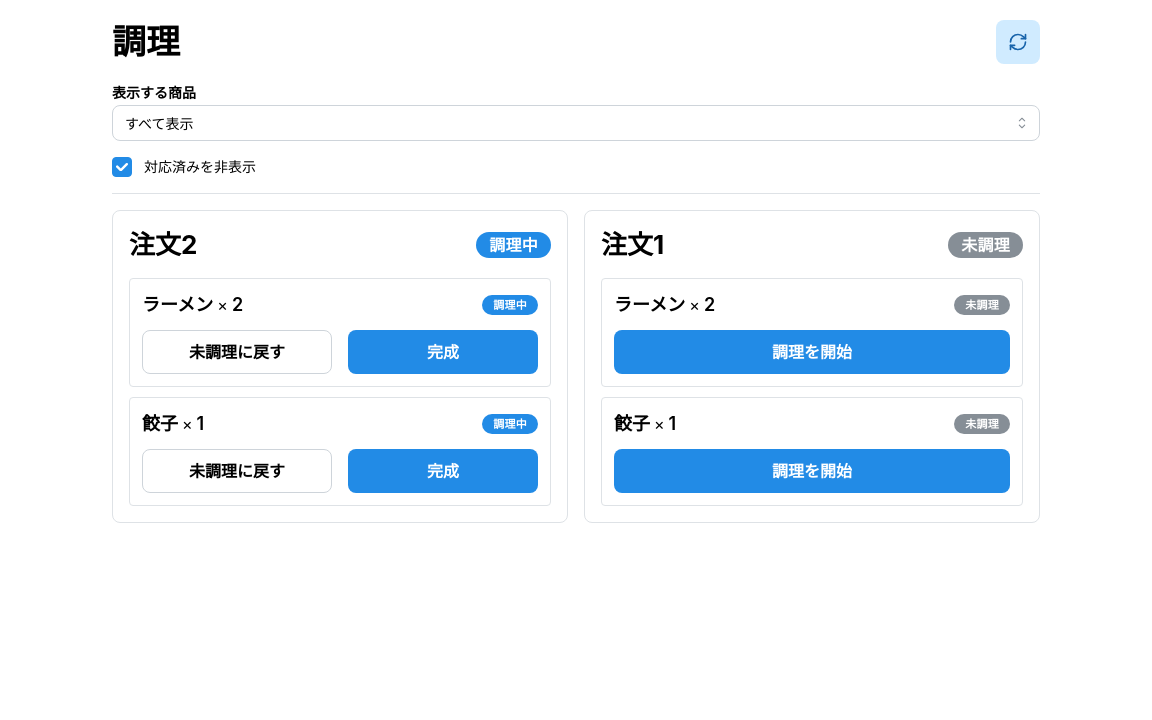
Test case: SPEC-KIT-001 SPEC-KIT-002 調理画面の操作 › 確認中に他の担当者が着手を取り消したら確認を閉じ、再着手しても再承認を求める
Click the button with aria-label "注文2のラーメンを完成".
click(443, 352)  # box [348,330,538,374]
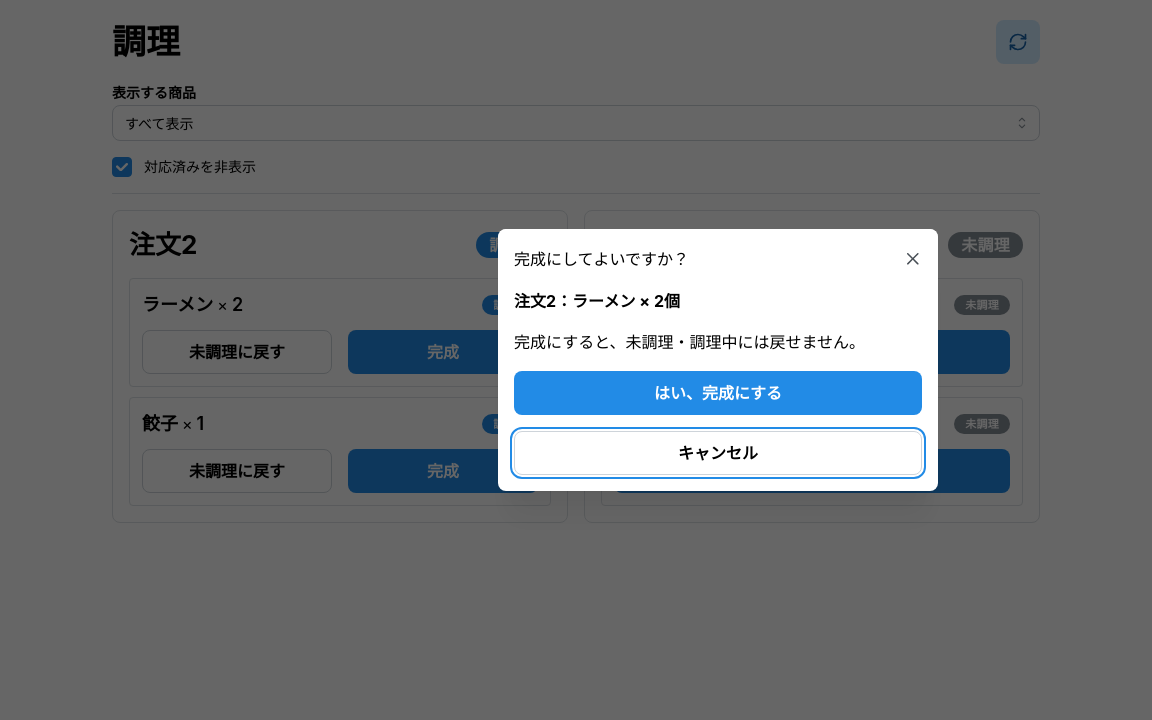
Now the dialog is shown, box [498,229,938,491]
